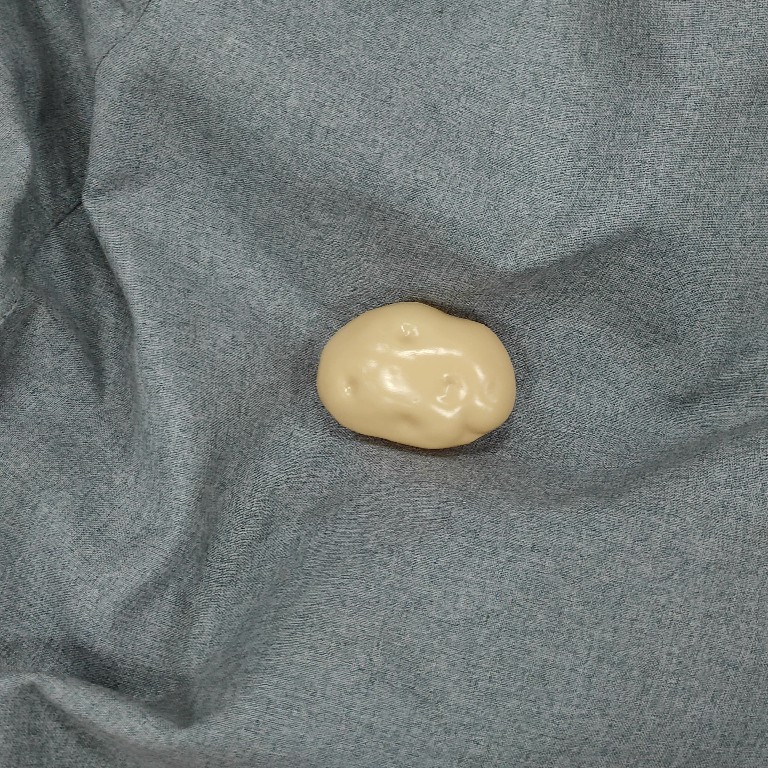fruit_potato: (307, 295, 521, 452)
